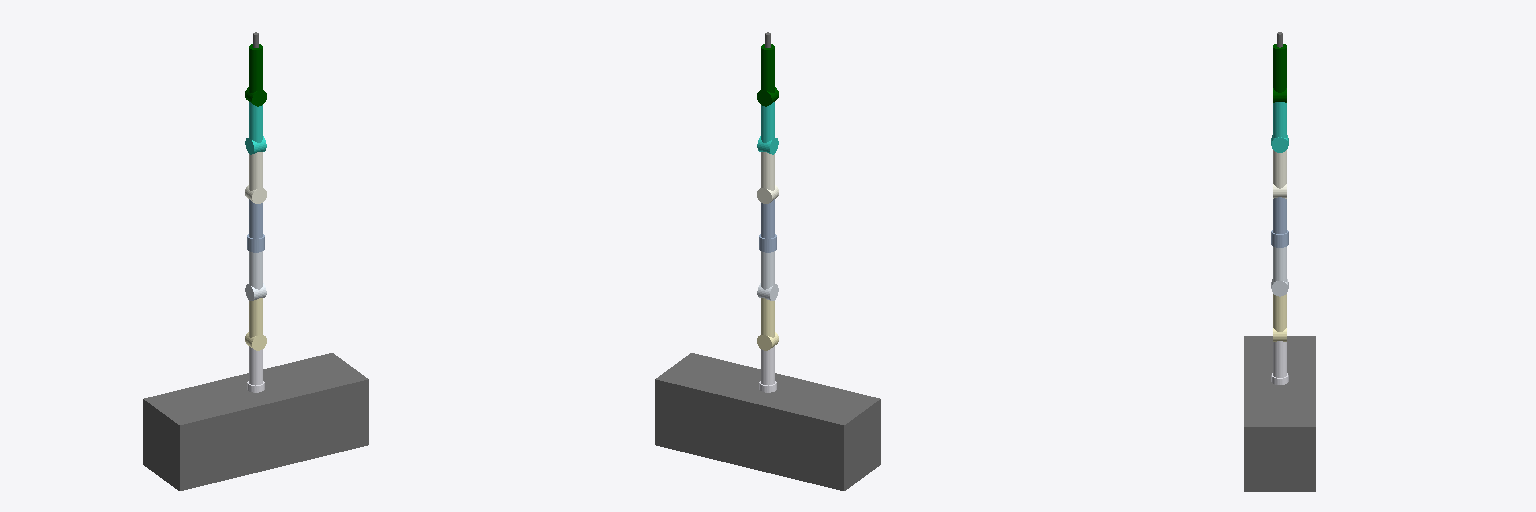
robot.urdf — test_robot:
<?xml version="1.0" ?>
<robot name="test_robot">
    <link name="base_link">
        <inertial>
            <mass value="1.0"/>
            <inertia ixx="0.05208333333333333" iyy="0.05208333333333333" izz="0.05208333333333333" ixy="0.0" ixz="0.0" iyz="0.0"/>
            <origin xyz="0 0 0" rpy="0 0 0"/>
        </inertial>
        <visual>
            <origin xyz="0 0 0" rpy="0 0 0"/>
            <geometry>
                <box size="0.75 0.25 0.25"/>
            </geometry>
            <material name="gray">
                <color rgba="0.5 0.5 0.5 1"/>
            </material>
        </visual>
    </link>
    <joint name="joint_viz0" type="fixed">
        <parent link="base_link"/>
        <child link="joint_viz_link0"/>
        <origin xyz="0 0 0.125" rpy="0 0 0"/>
    </joint>
    <link name="joint_viz_link0">
        <inertial>
            <mass value="0.0"/>
            <inertia ixx="0.0" iyy="0.0" izz="0.0" ixy="0.0" ixz="0.0" iyz="0.0"/>
            <origin xyz="0 0 0" rpy="0 0 0"/>
        </inertial>
        <visual>
            <origin xyz="0 0 0" rpy="0 0 0"/>
            <geometry>
                <cylinder length="0.05" radius="0.03"/>
            </geometry>
            <material name="ghostwhite">
                <color rgba="0.9725490196078431 0.9725490196078431 1.0 1.0"/>
            </material>
        </visual>
    </link>
    <joint name="joint0" type="revolute">
        <parent link="base_link"/>
        <child link="link0"/>
        <origin xyz="0 0 0.125" rpy="0 0 0"/>
        <axis xyz="0 0 1"/>
        <limit lower="-3.14" upper="3.14" effort="10" velocity="1"/>
    </joint>
    <link name="link0">
        <inertial>
            <mass value="1.0"/>
            <inertia ixx="0.0030083333333333333" iyy="0.0030083333333333333" izz="0.00031250000000000006" ixy="0.0" ixz="0.0" iyz="0.0"/>
            <origin xyz="0 0 0.0925" rpy="0 0 0"/>
        </inertial>
        <visual>
            <origin xyz="0 0 0.0925" rpy="0 0 0"/>
            <geometry>
                <cylinder length="0.185" radius="0.025"/>
            </geometry>
            <material name="ghostwhite">
                <color rgba="0.9725490196078431 0.9725490196078431 1.0 1.0"/>
            </material>
        </visual>
        <collision>
            <origin xyz="0 0 0.0925" rpy="0 0 0"/>
            <geometry>
                <cylinder length="0.185" radius="0.025"/>
            </geometry>
        </collision>
    </link>
    <joint name="joint_viz1" type="fixed">
        <parent link="link0"/>
        <child link="joint_viz_link1"/>
        <origin xyz="0 0 0.185" rpy="0 0 0"/>
    </joint>
    <link name="joint_viz_link1">
        <inertial>
            <mass value="0.0"/>
            <inertia ixx="0.0" iyy="0.0" izz="0.0" ixy="0.0" ixz="0.0" iyz="0.0"/>
            <origin xyz="0 0 0" rpy="1.57 0 0"/>
        </inertial>
        <visual>
            <origin xyz="0 0 0" rpy="1.57 0 0"/>
            <geometry>
                <cylinder length="0.05" radius="0.03"/>
            </geometry>
            <material name="lemonchiffon">
                <color rgba="1.0 0.9803921568627451 0.803921568627451 1.0"/>
            </material>
        </visual>
    </link>
    <joint name="joint1" type="revolute">
        <parent link="link0"/>
        <child link="link1"/>
        <origin xyz="0 0 0.185" rpy="0 0 0"/>
        <axis xyz="0 1 0"/>
        <limit lower="-3.14" upper="3.14" effort="10" velocity="1"/>
    </joint>
    <link name="link1">
        <inertial>
            <mass value="1.0"/>
            <inertia ixx="0.0030083333333333333" iyy="0.0030083333333333333" izz="0.00031250000000000006" ixy="0.0" ixz="0.0" iyz="0.0"/>
            <origin xyz="0 0 0.0925" rpy="0 0 0"/>
        </inertial>
        <visual>
            <origin xyz="0 0 0.0925" rpy="0 0 0"/>
            <geometry>
                <cylinder length="0.185" radius="0.025"/>
            </geometry>
            <material name="lemonchiffon">
                <color rgba="1.0 0.9803921568627451 0.803921568627451 1.0"/>
            </material>
        </visual>
        <collision>
            <origin xyz="0 0 0.0925" rpy="0 0 0"/>
            <geometry>
                <cylinder length="0.185" radius="0.025"/>
            </geometry>
        </collision>
    </link>
    <joint name="joint_viz2" type="fixed">
        <parent link="link1"/>
        <child link="joint_viz_link2"/>
        <origin xyz="0 0 0.185" rpy="0 0 0"/>
    </joint>
    <link name="joint_viz_link2">
        <inertial>
            <mass value="0.0"/>
            <inertia ixx="0.0" iyy="0.0" izz="0.0" ixy="0.0" ixz="0.0" iyz="0.0"/>
            <origin xyz="0 0 0" rpy="0 1.57 0"/>
        </inertial>
        <visual>
            <origin xyz="0 0 0" rpy="0 1.57 0"/>
            <geometry>
                <cylinder length="0.05" radius="0.03"/>
            </geometry>
            <material name="aliceblue">
                <color rgba="0.9411764705882353 0.9725490196078431 1.0 1.0"/>
            </material>
        </visual>
    </link>
    <joint name="joint2" type="revolute">
        <parent link="link1"/>
        <child link="link2"/>
        <origin xyz="0 0 0.185" rpy="0 0 0"/>
        <axis xyz="1 0 0"/>
        <limit lower="-3.14" upper="3.14" effort="10" velocity="1"/>
    </joint>
    <link name="link2">
        <inertial>
            <mass value="1.0"/>
            <inertia ixx="0.0030083333333333333" iyy="0.0030083333333333333" izz="0.00031250000000000006" ixy="0.0" ixz="0.0" iyz="0.0"/>
            <origin xyz="0 0 0.0925" rpy="0 0 0"/>
        </inertial>
        <visual>
            <origin xyz="0 0 0.0925" rpy="0 0 0"/>
            <geometry>
                <cylinder length="0.185" radius="0.025"/>
            </geometry>
            <material name="aliceblue">
                <color rgba="0.9411764705882353 0.9725490196078431 1.0 1.0"/>
            </material>
        </visual>
        <collision>
            <origin xyz="0 0 0.0925" rpy="0 0 0"/>
            <geometry>
                <cylinder length="0.185" radius="0.025"/>
            </geometry>
        </collision>
    </link>
    <joint name="joint_viz3" type="fixed">
        <parent link="link2"/>
        <child link="joint_viz_link3"/>
        <origin xyz="0 0 0.185" rpy="0 0 0"/>
    </joint>
    <link name="joint_viz_link3">
        <inertial>
            <mass value="0.0"/>
            <inertia ixx="0.0" iyy="0.0" izz="0.0" ixy="0.0" ixz="0.0" iyz="0.0"/>
            <origin xyz="0 0 0" rpy="0 0 0"/>
        </inertial>
        <visual>
            <origin xyz="0 0 0" rpy="0 0 0"/>
            <geometry>
                <cylinder length="0.05" radius="0.03"/>
            </geometry>
            <material name="lightsteelblue">
                <color rgba="0.6901960784313725 0.7686274509803922 0.8705882352941177 1.0"/>
            </material>
        </visual>
    </link>
    <joint name="joint3" type="revolute">
        <parent link="link2"/>
        <child link="link3"/>
        <origin xyz="0 0 0.185" rpy="0 0 0"/>
        <axis xyz="0 0 1"/>
        <limit lower="-3.14" upper="3.14" effort="10" velocity="1"/>
    </joint>
    <link name="link3">
        <inertial>
            <mass value="1.0"/>
            <inertia ixx="0.0030083333333333333" iyy="0.0030083333333333333" izz="0.00031250000000000006" ixy="0.0" ixz="0.0" iyz="0.0"/>
            <origin xyz="0 0 0.0925" rpy="0 0 0"/>
        </inertial>
        <visual>
            <origin xyz="0 0 0.0925" rpy="0 0 0"/>
            <geometry>
                <cylinder length="0.185" radius="0.025"/>
            </geometry>
            <material name="lightsteelblue">
                <color rgba="0.6901960784313725 0.7686274509803922 0.8705882352941177 1.0"/>
            </material>
        </visual>
        <collision>
            <origin xyz="0 0 0.0925" rpy="0 0 0"/>
            <geometry>
                <cylinder length="0.185" radius="0.025"/>
            </geometry>
        </collision>
    </link>
    <joint name="joint_viz4" type="fixed">
        <parent link="link3"/>
        <child link="joint_viz_link4"/>
        <origin xyz="0 0 0.185" rpy="0 0 0"/>
    </joint>
    <link name="joint_viz_link4">
        <inertial>
            <mass value="0.0"/>
            <inertia ixx="0.0" iyy="0.0" izz="0.0" ixy="0.0" ixz="0.0" iyz="0.0"/>
            <origin xyz="0 0 0" rpy="1.57 0 0"/>
        </inertial>
        <visual>
            <origin xyz="0 0 0" rpy="1.57 0 0"/>
            <geometry>
                <cylinder length="0.05" radius="0.03"/>
            </geometry>
            <material name="ivory">
                <color rgba="1.0 1.0 0.9411764705882353 1.0"/>
            </material>
        </visual>
    </link>
    <joint name="joint4" type="revolute">
        <parent link="link3"/>
        <child link="link4"/>
        <origin xyz="0 0 0.185" rpy="0 0 0"/>
        <axis xyz="0 1 0"/>
        <limit lower="-3.14" upper="3.14" effort="10" velocity="1"/>
    </joint>
    <link name="link4">
        <inertial>
            <mass value="1.0"/>
            <inertia ixx="0.0030083333333333333" iyy="0.0030083333333333333" izz="0.00031250000000000006" ixy="0.0" ixz="0.0" iyz="0.0"/>
            <origin xyz="0 0 0.0925" rpy="0 0 0"/>
        </inertial>
        <visual>
            <origin xyz="0 0 0.0925" rpy="0 0 0"/>
            <geometry>
                <cylinder length="0.185" radius="0.025"/>
            </geometry>
            <material name="ivory">
                <color rgba="1.0 1.0 0.9411764705882353 1.0"/>
            </material>
        </visual>
        <collision>
            <origin xyz="0 0 0.0925" rpy="0 0 0"/>
            <geometry>
                <cylinder length="0.185" radius="0.025"/>
            </geometry>
        </collision>
    </link>
    <joint name="joint_viz5" type="fixed">
        <parent link="link4"/>
        <child link="joint_viz_link5"/>
        <origin xyz="0 0 0.185" rpy="0 0 0"/>
    </joint>
    <link name="joint_viz_link5">
        <inertial>
            <mass value="0.0"/>
            <inertia ixx="0.0" iyy="0.0" izz="0.0" ixy="0.0" ixz="0.0" iyz="0.0"/>
            <origin xyz="0 0 0" rpy="0 1.57 0"/>
        </inertial>
        <visual>
            <origin xyz="0 0 0" rpy="0 1.57 0"/>
            <geometry>
                <cylinder length="0.05" radius="0.03"/>
            </geometry>
            <material name="turquoise">
                <color rgba="0.25098039215686274 0.8784313725490196 0.8156862745098039 1.0"/>
            </material>
        </visual>
    </link>
    <joint name="joint5" type="revolute">
        <parent link="link4"/>
        <child link="link5"/>
        <origin xyz="0 0 0.185" rpy="0 0 0"/>
        <axis xyz="1 0 0"/>
        <limit lower="-3.14" upper="3.14" effort="10" velocity="1"/>
    </joint>
    <link name="link5">
        <inertial>
            <mass value="1.0"/>
            <inertia ixx="0.0030083333333333333" iyy="0.0030083333333333333" izz="0.00031250000000000006" ixy="0.0" ixz="0.0" iyz="0.0"/>
            <origin xyz="0 0 0.0925" rpy="0 0 0"/>
        </inertial>
        <visual>
            <origin xyz="0 0 0.0925" rpy="0 0 0"/>
            <geometry>
                <cylinder length="0.185" radius="0.025"/>
            </geometry>
            <material name="turquoise">
                <color rgba="0.25098039215686274 0.8784313725490196 0.8156862745098039 1.0"/>
            </material>
        </visual>
        <collision>
            <origin xyz="0 0 0.0925" rpy="0 0 0"/>
            <geometry>
                <cylinder length="0.185" radius="0.025"/>
            </geometry>
        </collision>
    </link>
    <joint name="joint_viz6" type="fixed">
        <parent link="link5"/>
        <child link="joint_viz_link6"/>
        <origin xyz="0 0 0.185" rpy="0 0 0"/>
    </joint>
    <link name="joint_viz_link6">
        <inertial>
            <mass value="0.0"/>
            <inertia ixx="0.0" iyy="0.0" izz="0.0" ixy="0.0" ixz="0.0" iyz="0.0"/>
            <origin xyz="0 0 0" rpy="1.57 0 0"/>
        </inertial>
        <visual>
            <origin xyz="0 0 0" rpy="1.57 0 0"/>
            <geometry>
                <cylinder length="0.05" radius="0.03"/>
            </geometry>
            <material name="darkgreen">
                <color rgba="0.0 0.39215686274509803 0.0 1.0"/>
            </material>
        </visual>
    </link>
    <joint name="joint6" type="revolute">
        <parent link="link5"/>
        <child link="link6"/>
        <origin xyz="0 0 0.185" rpy="0 0 0"/>
        <axis xyz="0 1 0"/>
        <limit lower="-3.14" upper="3.14" effort="10" velocity="1"/>
    </joint>
    <link name="link6">
        <inertial>
            <mass value="1.0"/>
            <inertia ixx="0.0030083333333333333" iyy="0.0030083333333333333" izz="0.00031250000000000006" ixy="0.0" ixz="0.0" iyz="0.0"/>
            <origin xyz="0 0 0.0925" rpy="0 0 0"/>
        </inertial>
        <visual>
            <origin xyz="0 0 0.0925" rpy="0 0 0"/>
            <geometry>
                <cylinder length="0.185" radius="0.025"/>
            </geometry>
            <material name="darkgreen">
                <color rgba="0.0 0.39215686274509803 0.0 1.0"/>
            </material>
        </visual>
        <collision>
            <origin xyz="0 0 0.0925" rpy="0 0 0"/>
            <geometry>
                <cylinder length="0.185" radius="0.025"/>
            </geometry>
        </collision>
    </link>
    <joint name="probe_joint" type="fixed">
        <parent link="link6"/>
        <child link="probe_link"/>
        <origin xyz="0 0 0.185" rpy="0 0 0"/>
    </joint>
    <link name="probe_link">
        <inertial>
            <mass value="0.0"/>
            <inertia ixx="0.0" iyy="0.0" izz="0.0" ixy="0.0" ixz="0.0" iyz="0.0"/>
            <origin xyz="0 0 0" rpy="0 0 0"/>
        </inertial>
        <visual>
            <origin xyz="0 0 0" rpy="0 0 0"/>
            <geometry>
                <cylinder length="0.1" radius="0.01"/>
            </geometry>
            <material name="gray">
                <color rgba="0.5 0.5 0.5 1"/>
            </material>
        </visual>
    </link>
    <joint name="end_effector_joint" type="fixed">
        <parent link="probe_link"/>
        <child link="end_effector"/>
        <origin xyz="0 0 0.1" rpy="0 0 0"/>
    </joint>
    <link name="end_effector">
        <inertial>
            <mass value="0.0"/>
            <inertia ixx="0.0" iyy="0.0" izz="0.0" ixy="0.0" ixz="0.0" iyz="0.0"/>
            <origin xyz="0 0 0" rpy="0 0 0"/>
        </inertial>
        <visual>
            <origin xyz="0 0 0" rpy="0 0 0"/>
            <geometry>
                <cylinder length="0" radius="0"/>
            </geometry>
            <material name="gray">
                <color rgba="0.5 0.5 0.5 1"/>
            </material>
        </visual>
    </link>
</robot>

--- Render facts (derived) ---
Views: 3 orthographic renders of the robot side by side, from view 1: azimuth 30°, elevation 25°; view 2: azimuth 150°, elevation 25°; view 3: azimuth 270°, elevation 25°.
Model test_robot with 17 links and 16 joints (7 revolute, 9 fixed), rooted at base_link, posed every joint at zero.
Links seen in each view (by area): view 1: base_link, link6; view 2: base_link, link6; view 3: base_link, link6.
Link boxes in pixels (x1,y1,x2,y2): base_link: (143,353,368,490); link6: (249,44,262,92); base_link: (655,353,880,490); link6: (761,44,774,92); base_link: (1244,336,1315,491); link6: (1273,44,1286,92).
Size in the robot's own frame: 0.75 by 0.25 by 1.65 metres.
Geometry: primitives only (box / cylinder / sphere), no mesh files.